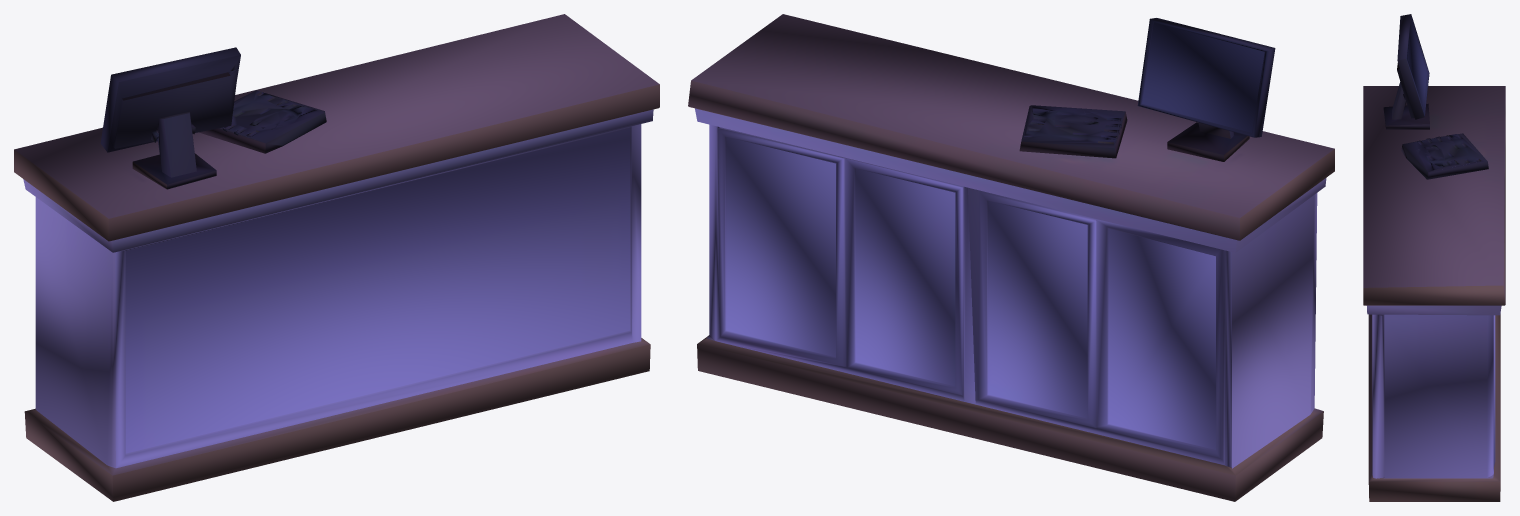
File: model.progressive.glb
3 renders of one model, left to right at view 1: azimuth 30°, elevation 25°; view 2: azimuth 150°, elevation 25°; view 3: azimuth 270°, elevation 25°, orthographic. The views are drawn at different scales.
Parts seen in each view (by area): view 1: material; view 2: material; view 3: material.
Part boxes in pixels (bbox=[...]): material: bbox=[14, 14, 659, 501]; material: bbox=[688, 14, 1334, 501]; material: bbox=[1363, 14, 1505, 501].
Size of the model in its own units: 1.89 by 1.31 by 0.5624.
Materials: 1 (1 with a texture image).
